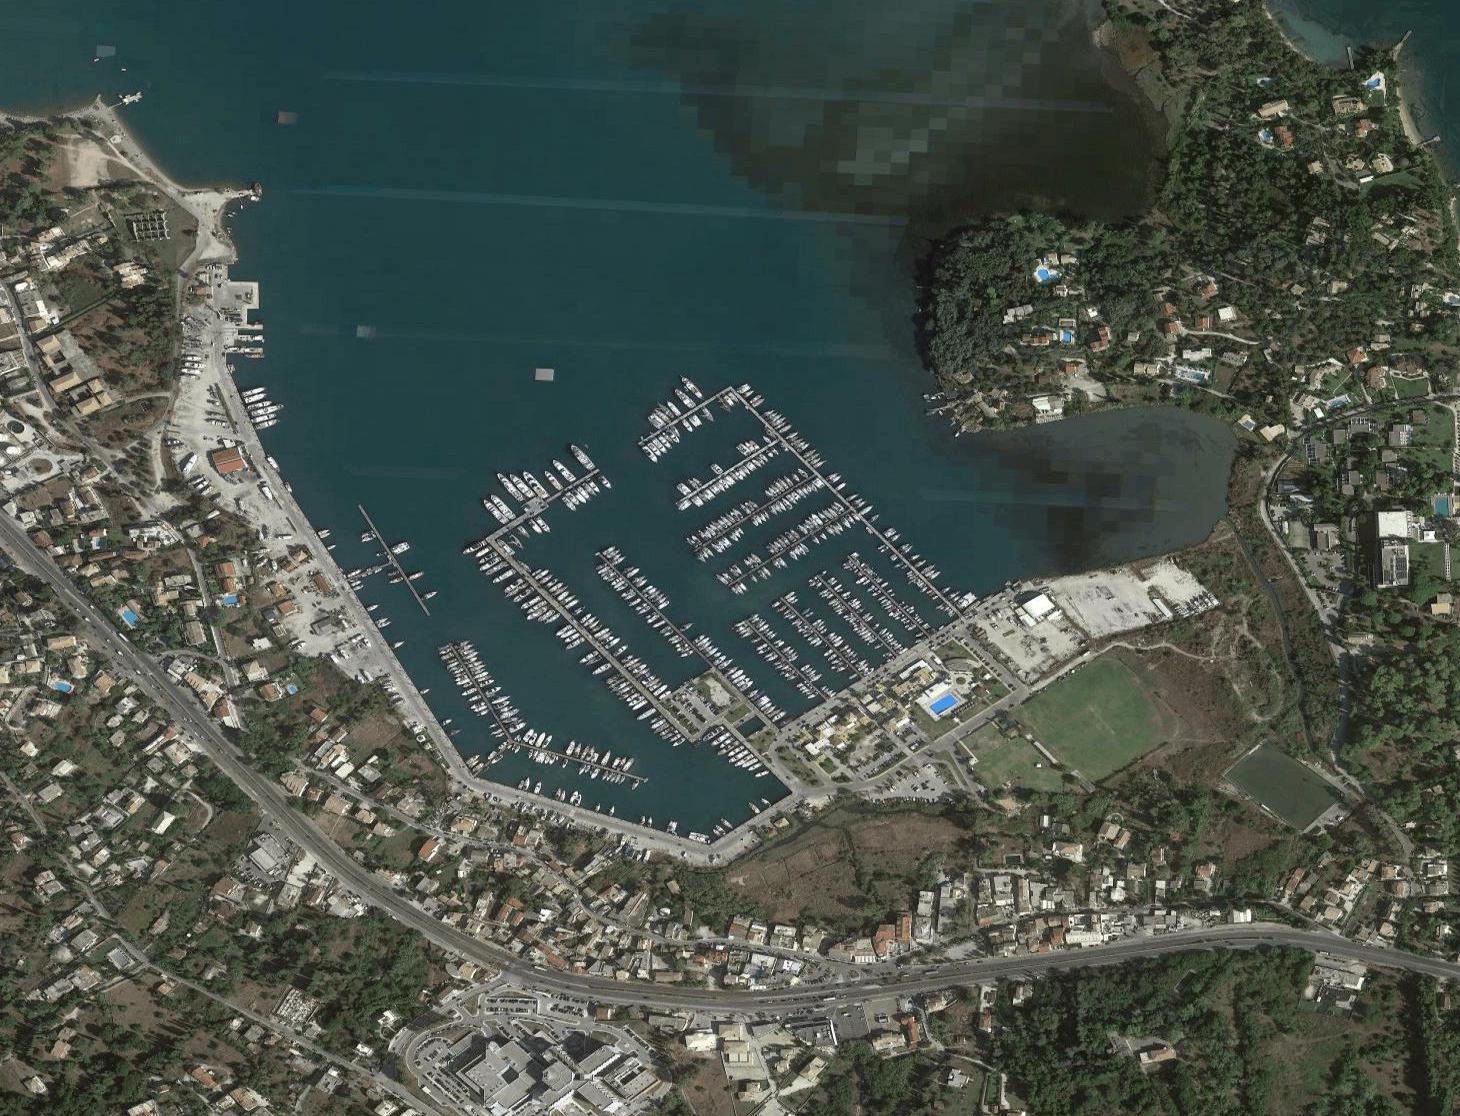harbor: (241, 353, 1076, 857)
motorway: (247, 776, 384, 905), (122, 646, 247, 777), (1, 515, 124, 646), (386, 901, 562, 989), (962, 931, 1140, 991), (564, 965, 760, 1014), (762, 957, 960, 1003), (1142, 918, 1339, 959), (1340, 941, 1460, 984)
